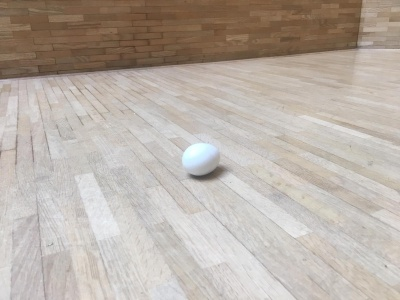egg: (181, 142, 222, 176)
